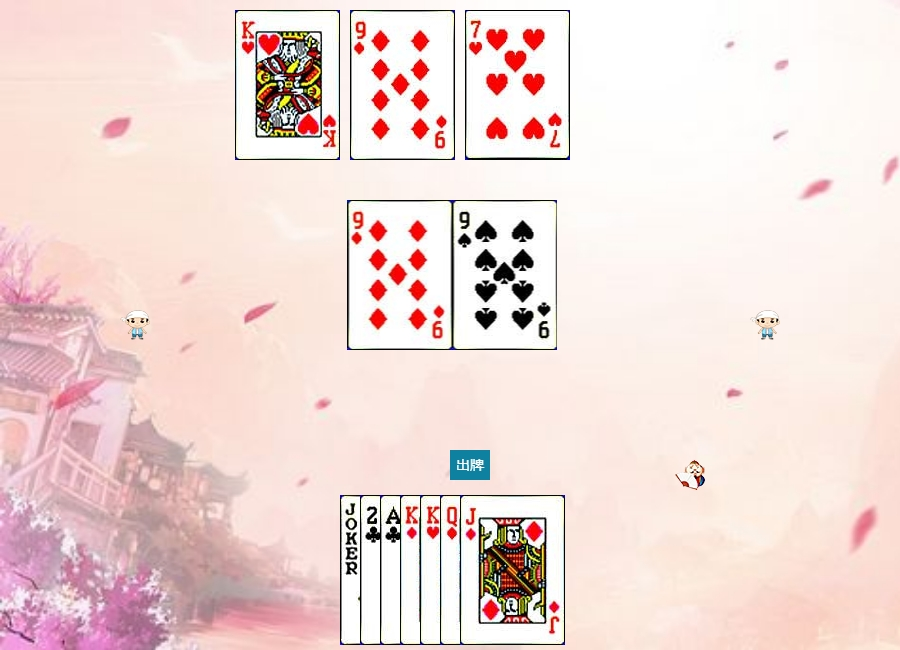11~1: (460, 495, 565, 645)
12~1: (440, 495, 545, 645)
13~1: (400, 495, 505, 645)
13~3: (235, 10, 340, 160), (420, 495, 525, 645)
14~2: (380, 495, 485, 645)
15~2: (360, 495, 465, 645)
17~3: (340, 495, 445, 645)
7~3: (465, 10, 570, 160)
9~1: (350, 10, 455, 160), (348, 200, 453, 350)
9~4: (453, 200, 558, 350)
